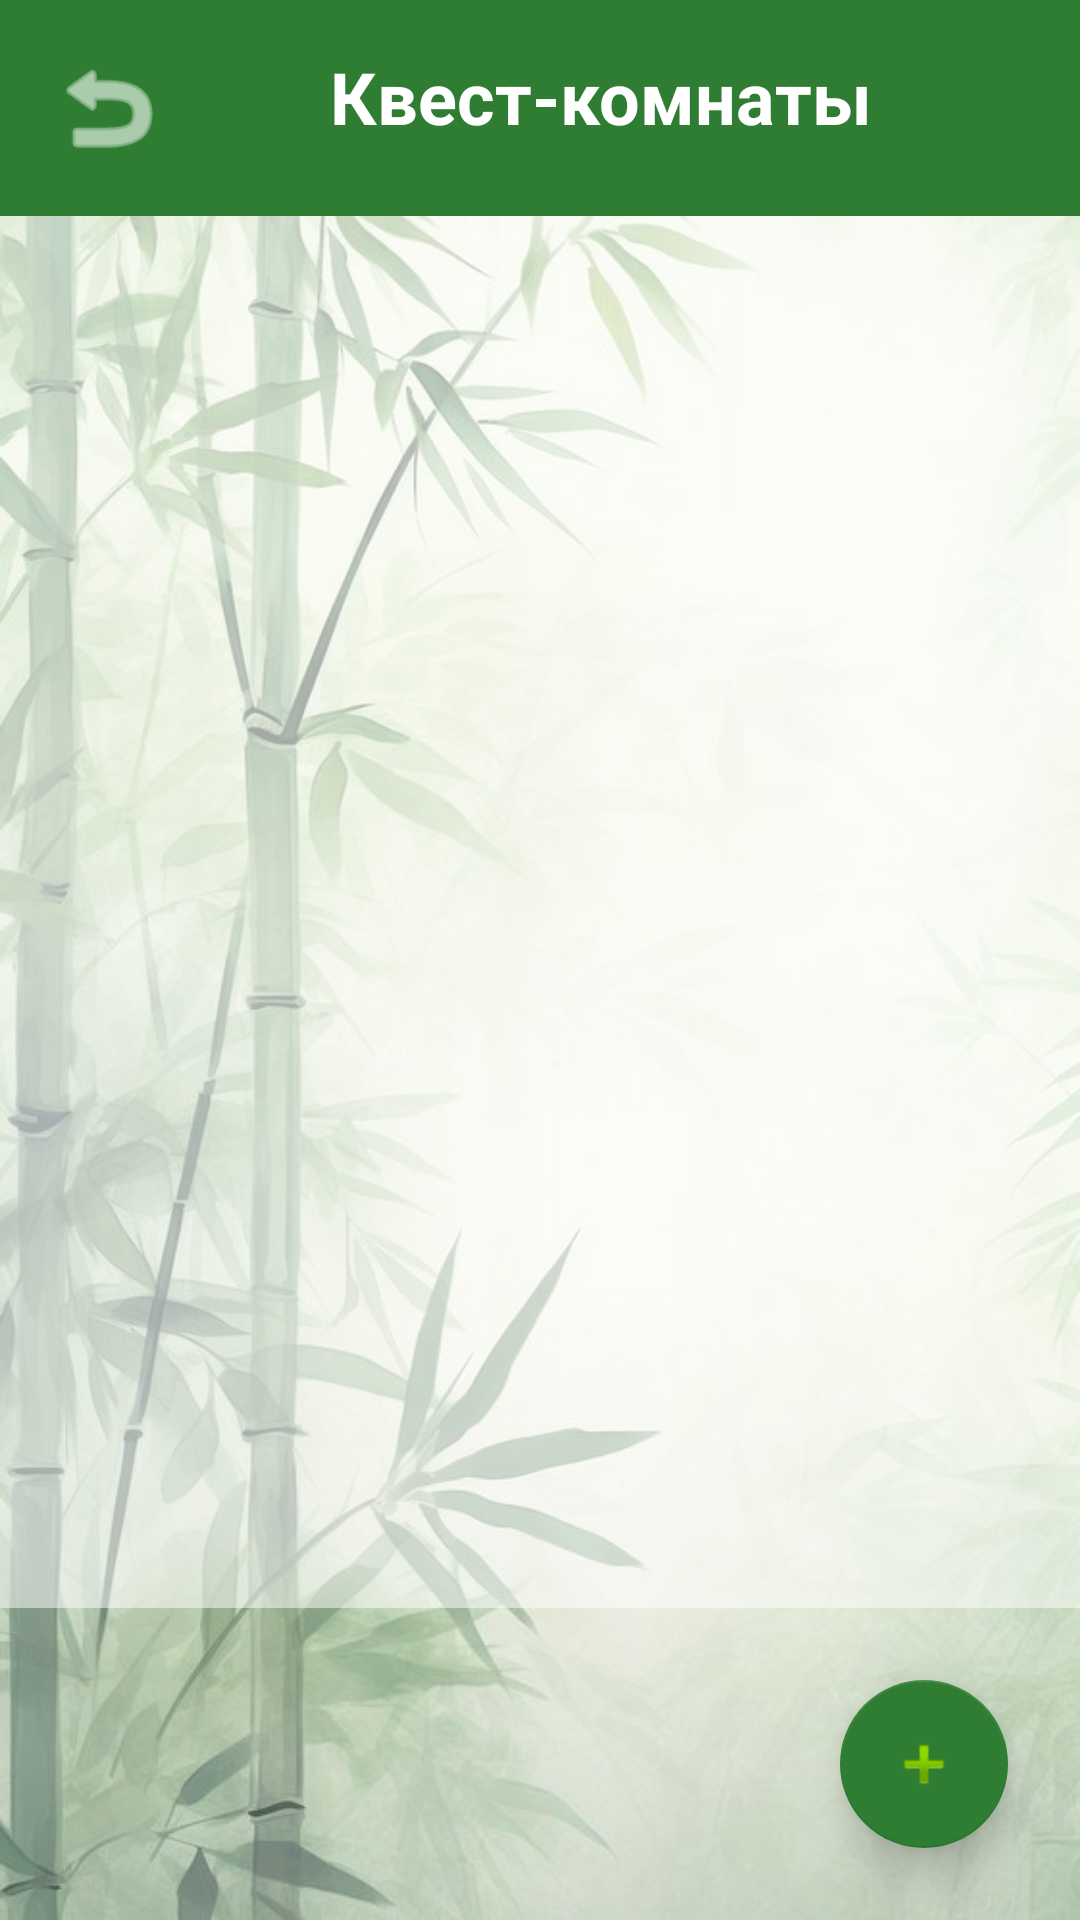

Screen size 1080px x 1920px. Icon name, then its box in pixels as (x1, y1, x2, y2):
Добавить комнату: (840, 1680, 1008, 1848)
Назад: (66, 70, 153, 148)
